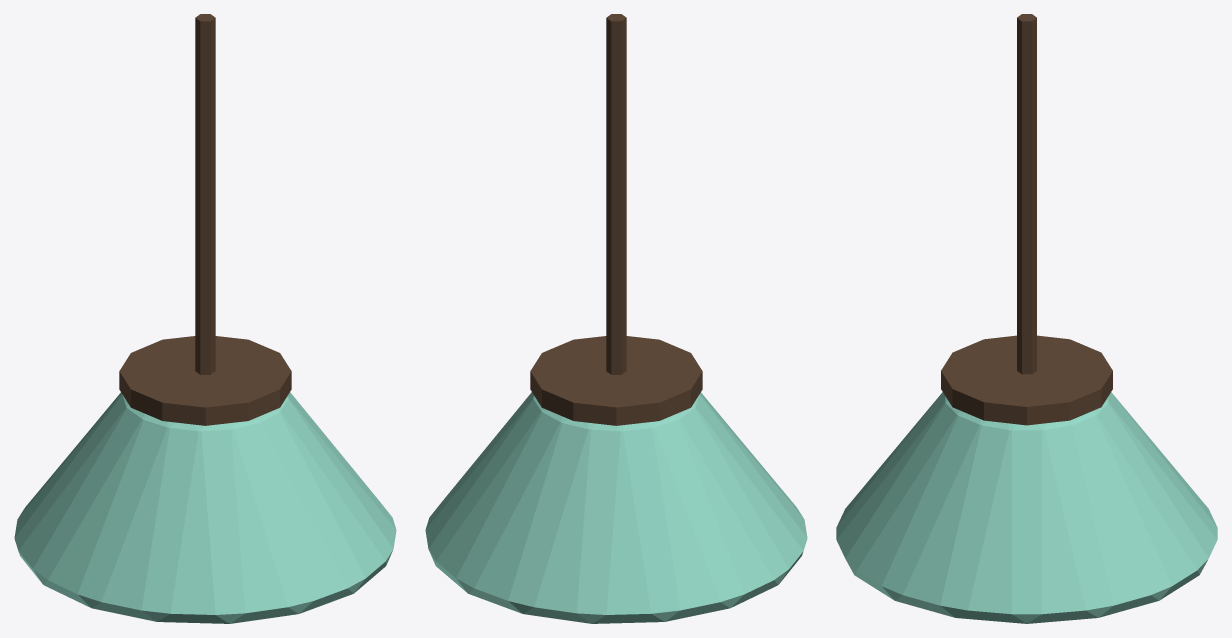
The model's file is CatCafe_Decor_HangingLamp.glb.
3 views of the same model, side by side, from view 1: azimuth 30°, elevation 25°; view 2: azimuth 150°, elevation 25°; view 3: azimuth 270°, elevation 25° (orthographic).
Parts seen in each view (by area): view 1: CatCafe_Decor_HangingLamp_Shade; view 2: CatCafe_Decor_HangingLamp_Shade; view 3: CatCafe_Decor_HangingLamp_Shade.
Part boxes in pixels (x1,y1,x2,y2): CatCafe_Decor_HangingLamp_Shade: (14, 14, 396, 623); CatCafe_Decor_HangingLamp_Shade: (425, 14, 807, 623); CatCafe_Decor_HangingLamp_Shade: (836, 14, 1217, 623).
Size of the model in its own units: 1.51 by 2.6 by 1.51.
1 material, 1 textured.
